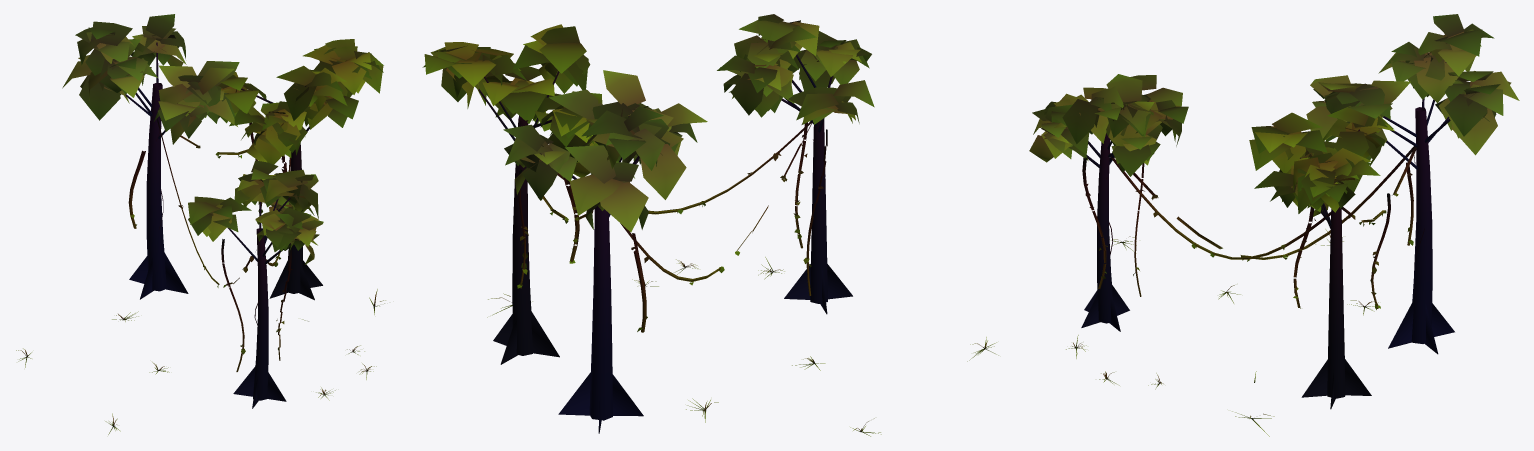
File: patch_fern_floor_far.glb
3 views of the same model, side by side, from view 1: azimuth 30°, elevation 25°; view 2: azimuth 150°, elevation 25°; view 3: azimuth 270°, elevation 25° (orthographic). The views are drawn at different scales.
Parts seen in each view (by area): view 1: patch_fern_floor_far; view 2: patch_fern_floor_far; view 3: patch_fern_floor_far.
Part boxes in pixels (box(x1,y1,x2,y2)): patch_fern_floor_far: box(16, 14, 385, 434); patch_fern_floor_far: box(422, 14, 998, 436); patch_fern_floor_far: box(1029, 14, 1519, 436).
Bounding box in the file's own units: 16.79 × 11.9 × 17.22.
1 material, 1 textured.
